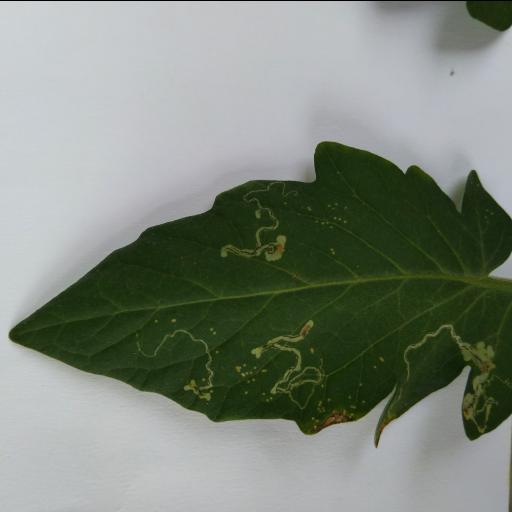Leaf Miner: (8, 138, 512, 442)
